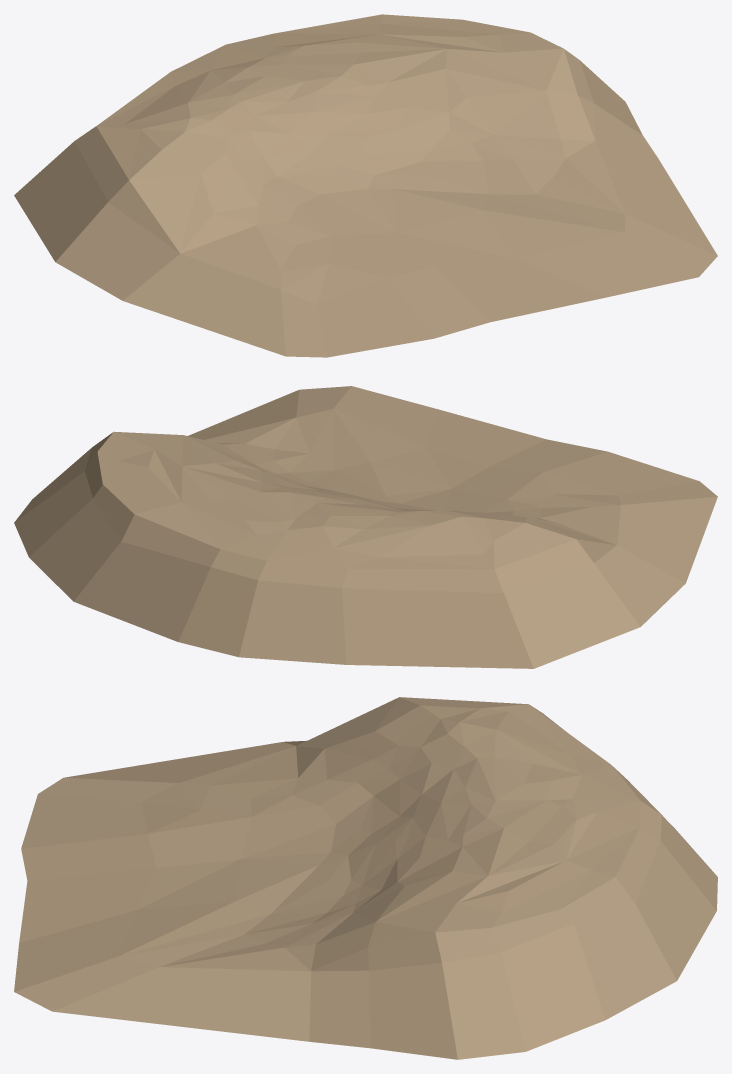
File: env_river_edge2.gltf
The picture shows the model from 3 angles, top to bottom: view 1: azimuth 30°, elevation 25°; view 2: azimuth 150°, elevation 25°; view 3: azimuth 270°, elevation 25°; orthographic projection. The views are drawn at different scales.
Parts seen in each view (by area): view 1: env_river_edge2; view 2: env_river_edge2; view 3: env_river_edge2.
Part boxes in pixels (x1,y1,x2,y2): env_river_edge2: (14,14,717,357); env_river_edge2: (14,386,717,668); env_river_edge2: (14,697,717,1059).
Bounding box in the file's own units: 16.1 × 2.32 × 14.77.
1 material, 1 textured.
